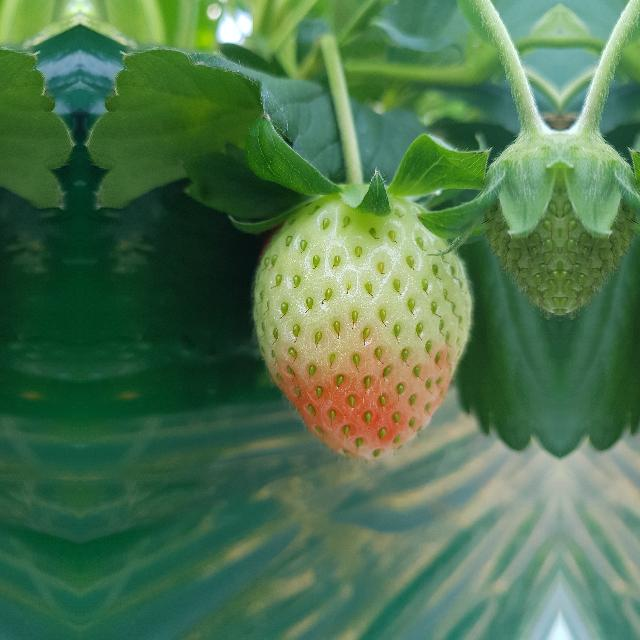Health_25: (480, 161, 560, 319), (560, 161, 640, 319)
Health_50: (251, 193, 473, 463)
